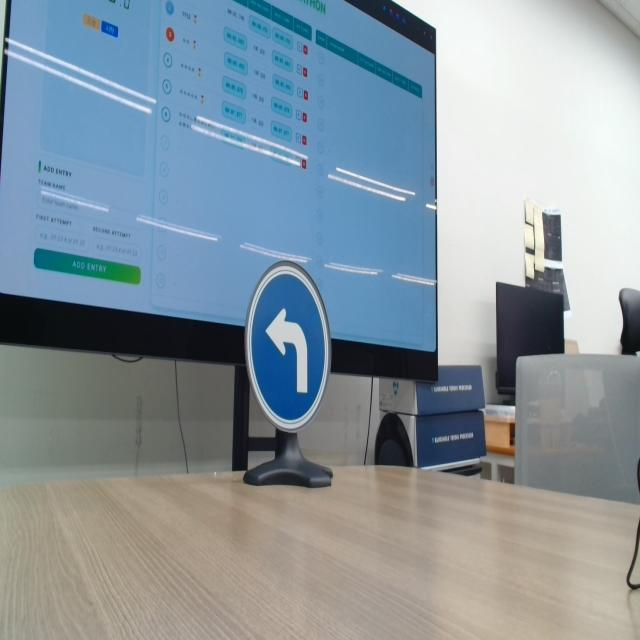left_direction: (243, 255, 335, 437)
